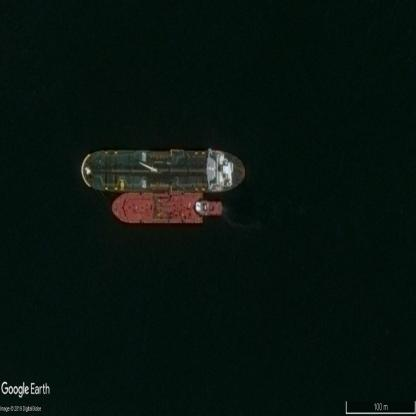ship: (81, 149, 245, 191), (109, 194, 223, 224)
